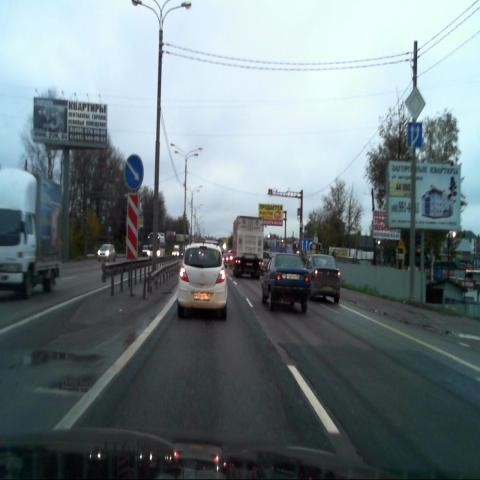4_2_1: (124, 155, 144, 189)
